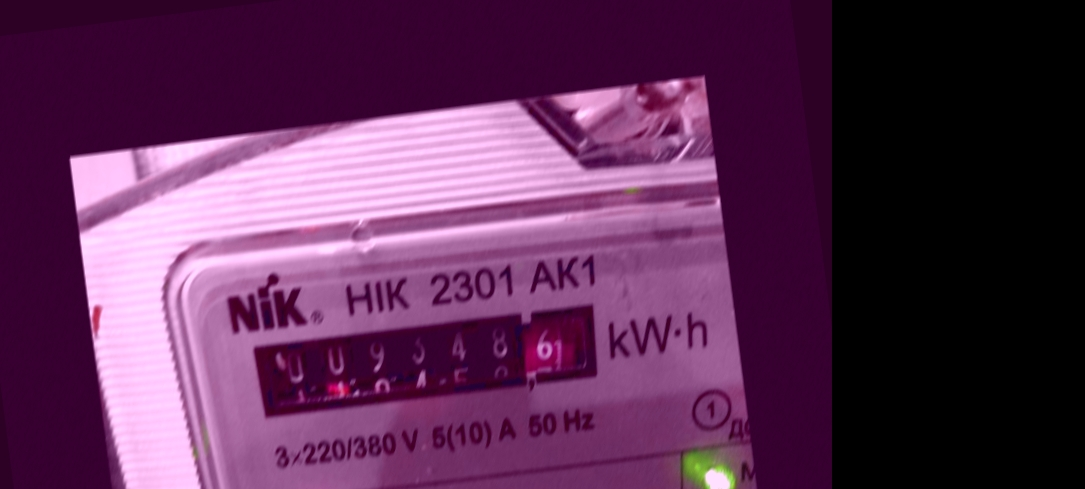0: (320, 339, 346, 377), (280, 346, 304, 383)
3: (402, 329, 428, 364)
4: (442, 324, 467, 364)
6: (529, 323, 555, 360)
8: (484, 321, 509, 357)
9: (363, 335, 385, 371)
screen: (226, 285, 620, 435)
